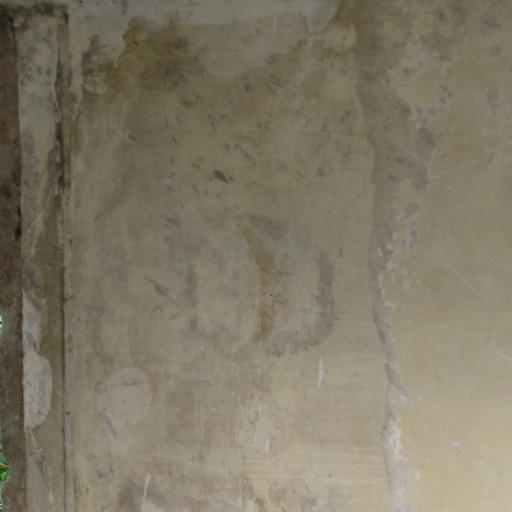stain: (30, 12, 448, 512)
